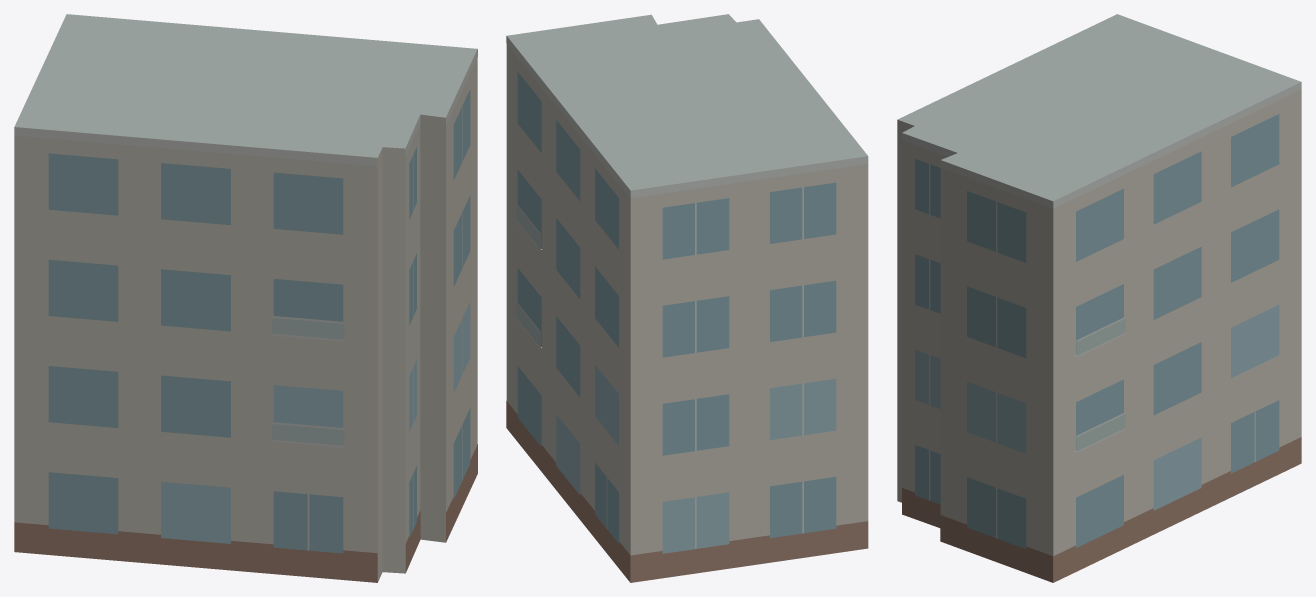
File: survey-upis-32760642.glb
3 views of the same model, side by side, from view 1: azimuth 30°, elevation 25°; view 2: azimuth 150°, elevation 25°; view 3: azimuth 270°, elevation 25° (orthographic). The views are drawn at different scales.
Parts seen in each view (by area): view 1: survey-upis-32760642.tmp; view 2: survey-upis-32760642.tmp; view 3: survey-upis-32760642.tmp.
Boxes of the visible parts, bbox=[...] form: survey-upis-32760642.tmp: bbox=[14, 14, 477, 582]; survey-upis-32760642.tmp: bbox=[506, 14, 868, 582]; survey-upis-32760642.tmp: bbox=[897, 14, 1301, 582].
Bounding box in the file's own units: 13.01 × 12.35 × 11.87.
